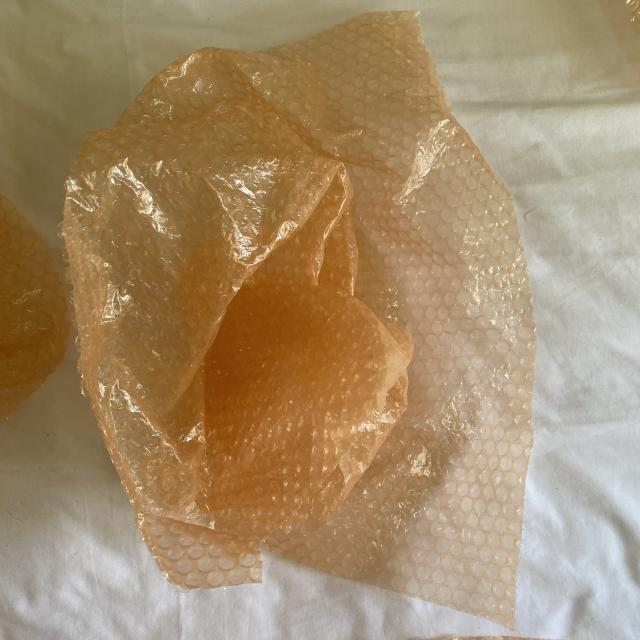Single-layer Plastic: (62, 12, 534, 622), (0, 192, 72, 430)
